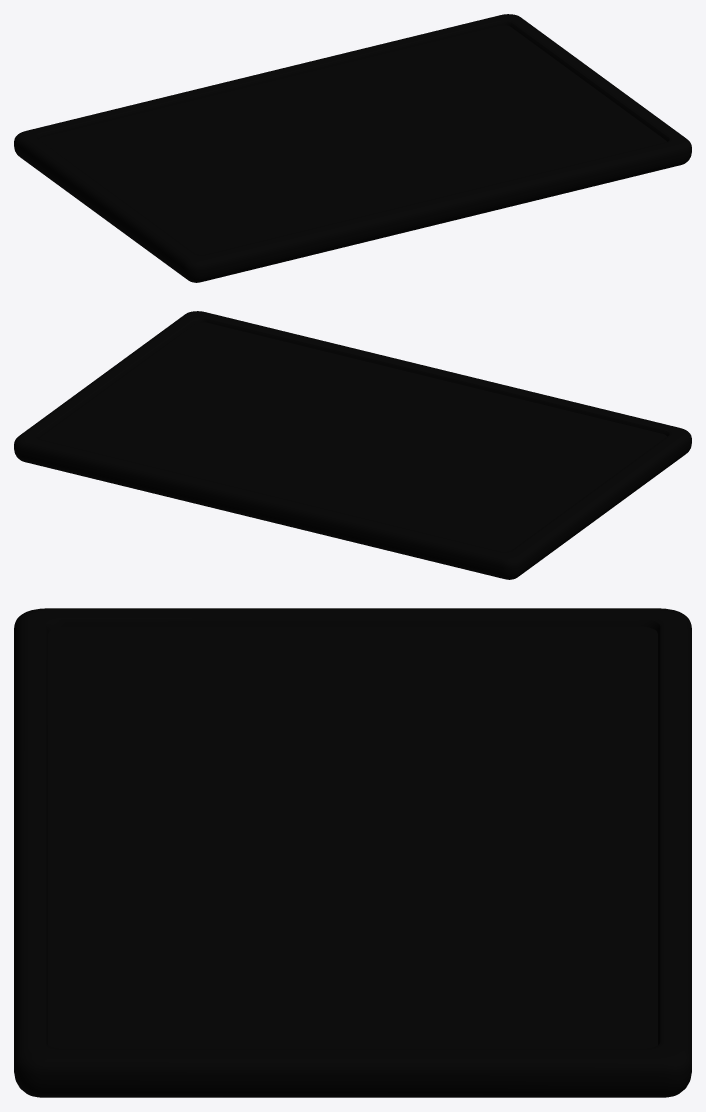
File: tablet.fbx
3 views of the same model, one above another, from view 1: azimuth 30°, elevation 25°; view 2: azimuth 150°, elevation 25°; view 3: azimuth 270°, elevation 25° (orthographic). The views are drawn at different scales.
Visible parts, largest first — view 1: Cube; view 2: Cube; view 3: Cube.
Part boxes in pixels (bbox=[...]): Cube: bbox=[14, 14, 691, 282]; Cube: bbox=[14, 311, 691, 579]; Cube: bbox=[14, 608, 691, 1097].
Size of the model in its own units: 60 by 2.68 by 37.5.
